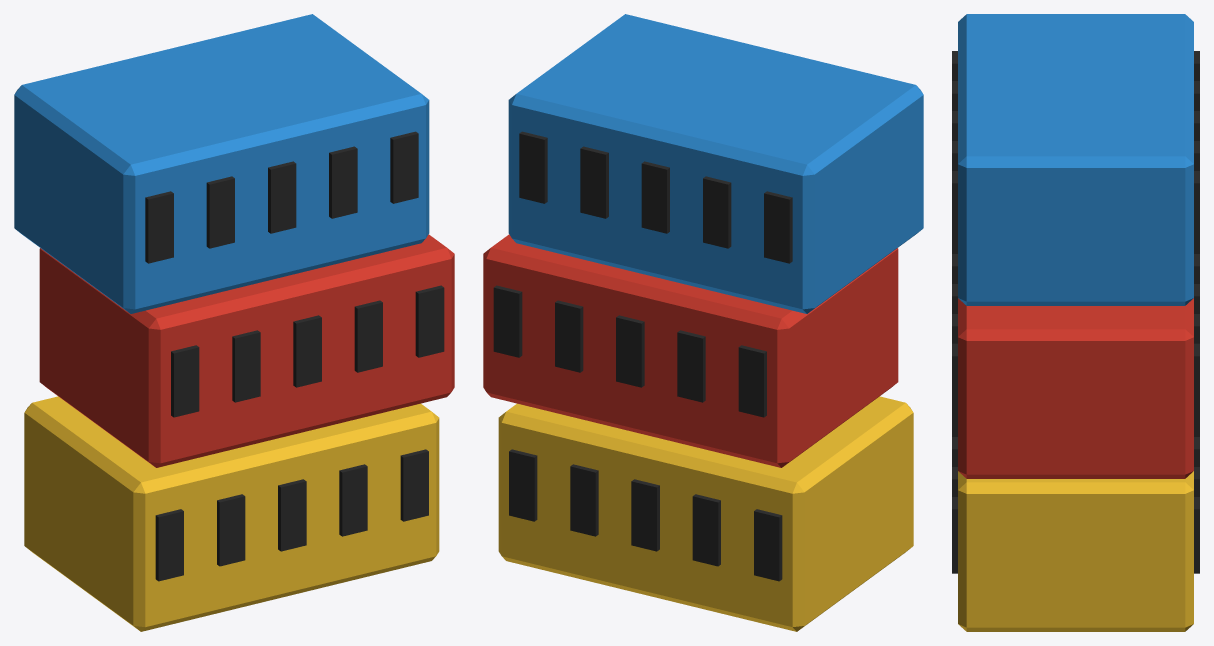
Rendered from crate_stack.glb.
3 views of the same model, side by side, from view 1: azimuth 30°, elevation 25°; view 2: azimuth 150°, elevation 25°; view 3: azimuth 270°, elevation 25° (orthographic).
Parts seen in each view (by area): view 1: crate_stack; view 2: crate_stack; view 3: crate_stack.
Boxes of the visible parts, x1,y1,x2,y2 form: crate_stack: (14, 14, 454, 631); crate_stack: (483, 14, 923, 631); crate_stack: (952, 14, 1199, 631).
Bounding box in the file's own units: 0.65 × 0.88 × 0.42.
